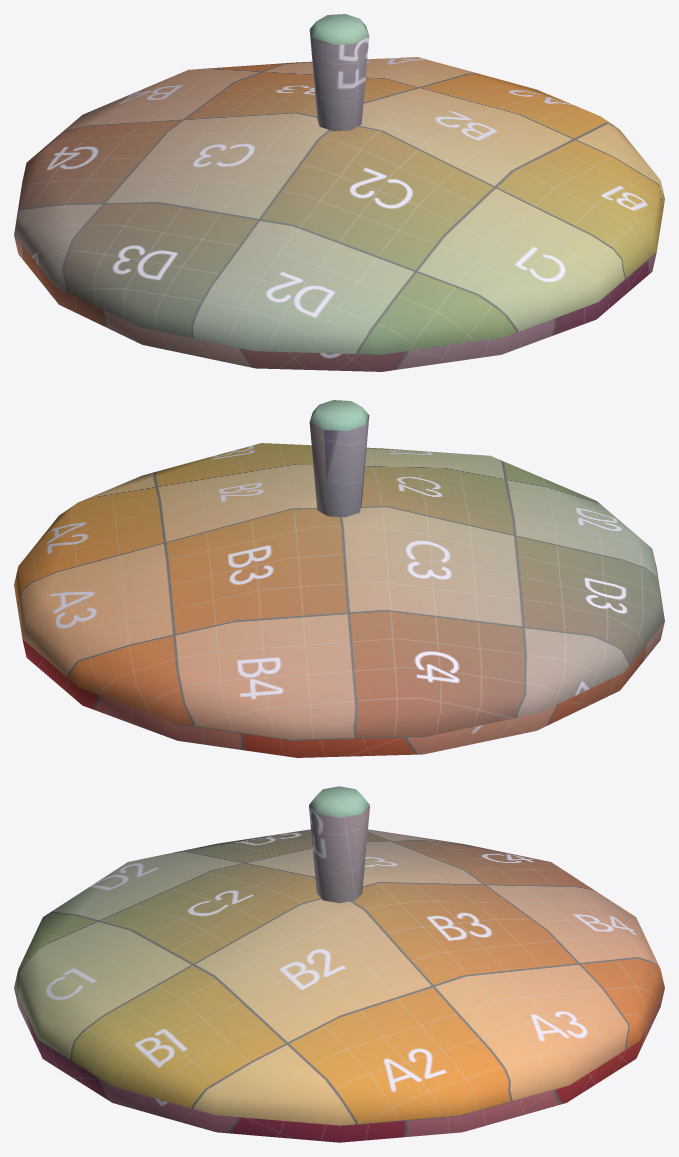
File: MediumUrnLid_LOW.fbx
3 renders of one model, top to bottom at view 1: azimuth 30°, elevation 25°; view 2: azimuth 150°, elevation 25°; view 3: azimuth 270°, elevation 25°, orthographic.
Visible parts, largest first — view 1: MediumUrnLid_LOW.001; view 2: MediumUrnLid_LOW.001; view 3: MediumUrnLid_LOW.001.
Part boxes in pixels (x1,y1,x2,y2): MediumUrnLid_LOW.001: (14,14,664,371); MediumUrnLid_LOW.001: (14,400,664,757); MediumUrnLid_LOW.001: (14,786,664,1142).
Size of the model in its own units: 0.6418 by 0.2292 by 0.6418.
1 material, 1 textured.
